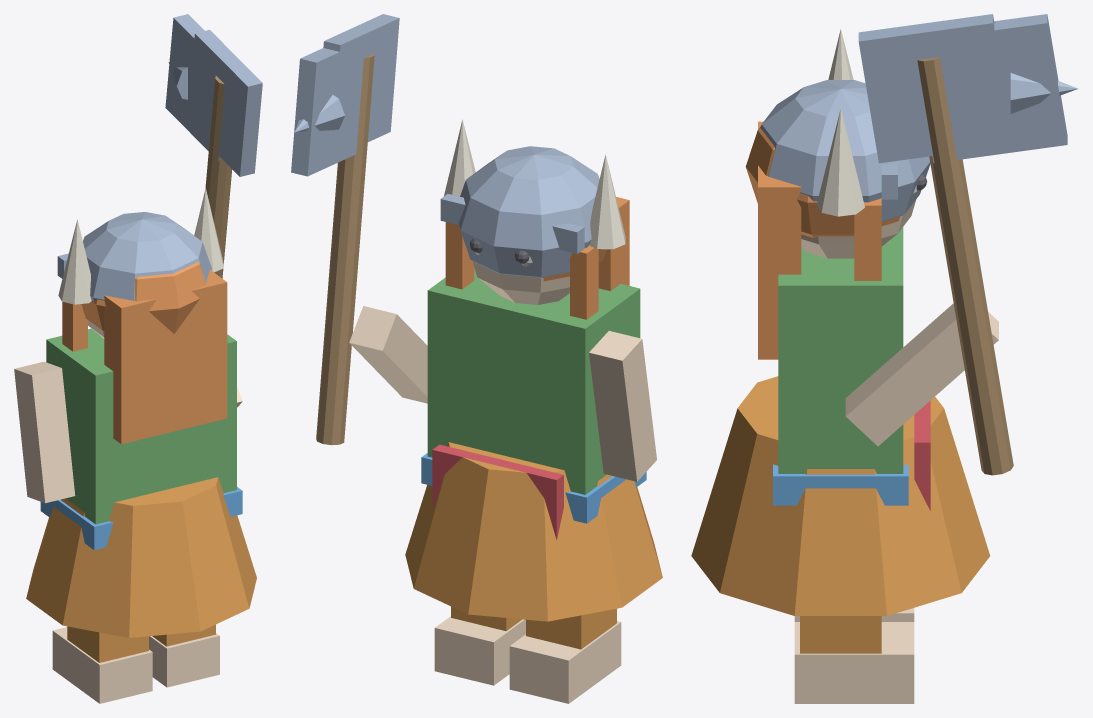
Rendered from valkyrie.glb.
3 renders of one model, left to right at view 1: azimuth 30°, elevation 25°; view 2: azimuth 150°, elevation 25°; view 3: azimuth 270°, elevation 25°, orthographic. The views are drawn at different scales.
Parts seen in each view (by area): view 1: valkyrie; view 2: valkyrie; view 3: valkyrie.
Part boxes in pixels (x1,y1,x2,y2): valkyrie: [14, 14, 262, 703]; valkyrie: [291, 14, 662, 703]; valkyrie: [691, 14, 1077, 703].
Bounding box in the file's own units: 1.31 × 2.93 × 1.43.
